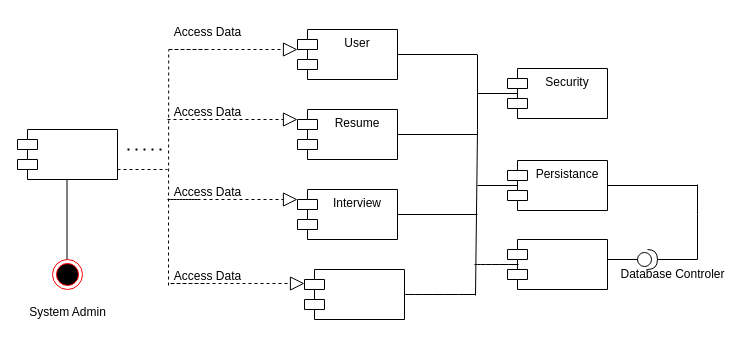
The diagram is 755 pixels wide and 344 high, and some of its shapes have lost their labels. The shapes that lost their labels are listed below. From the top down, each one's centre as x and y in pixels, then its label:
At point 67,154: "Ai JobSync".
At point 557,264: "Database".
At point 354,294: "Job".
